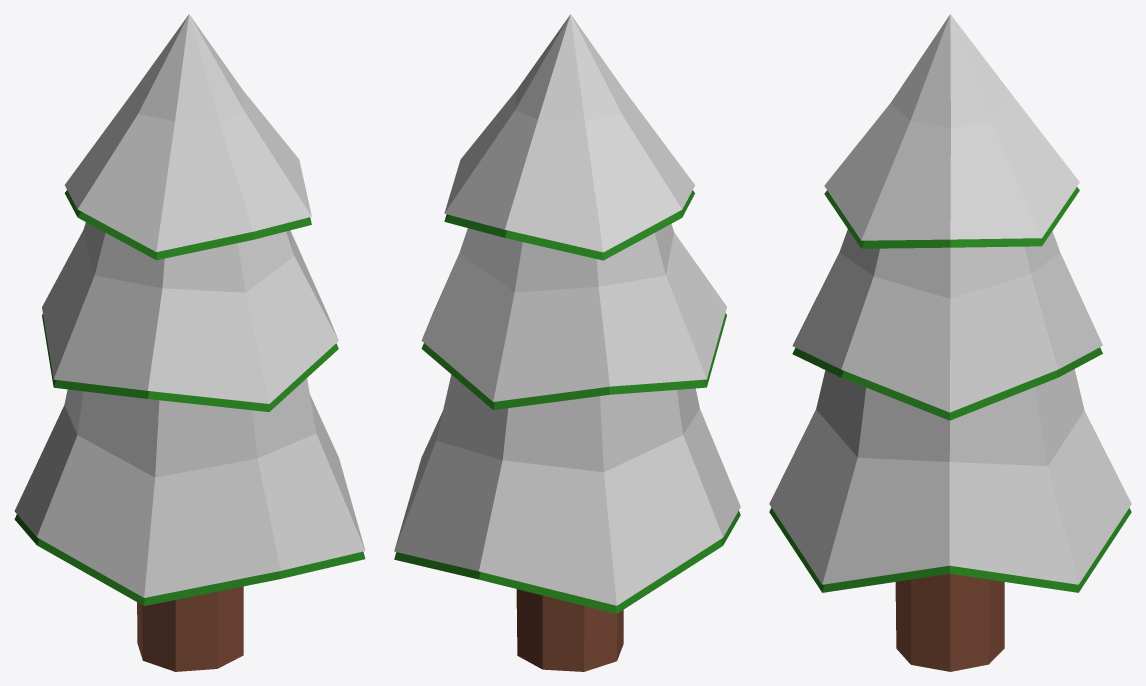
The model's file is Tree_01_winter_mat.fbx.
3 renders of one model, left to right at view 1: azimuth 30°, elevation 25°; view 2: azimuth 150°, elevation 25°; view 3: azimuth 270°, elevation 25°, orthographic.
Visible parts, largest first — view 1: Tree_01_winter_mat; view 2: Tree_01_winter_mat; view 3: Tree_01_winter_mat.
Boxes of the visible parts, x1,y1,x2,y2 form: Tree_01_winter_mat: (14,14,365,671); Tree_01_winter_mat: (394,14,740,671); Tree_01_winter_mat: (769,14,1131,671).
Size of the model in its own units: 3.33 by 6.7 by 3.47.
